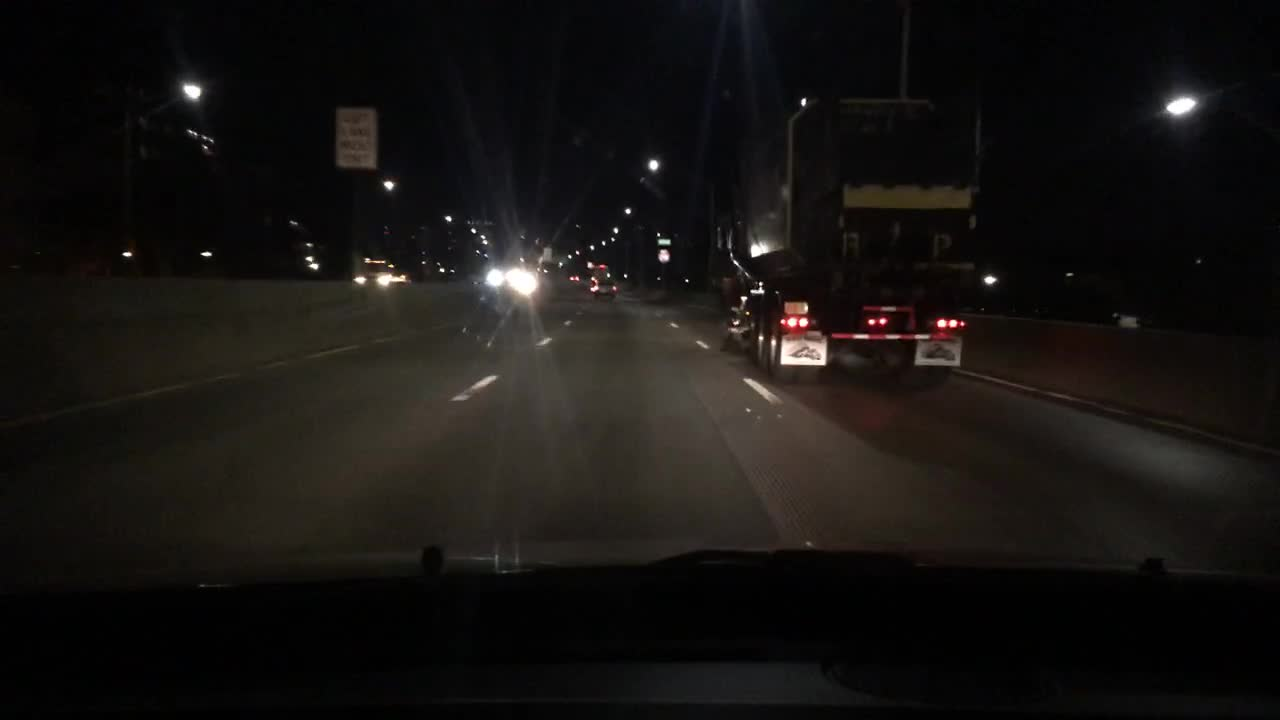car: (352, 255, 406, 283), (481, 265, 519, 287), (585, 273, 617, 299)
traffic sign: (334, 106, 374, 167), (656, 246, 668, 263), (656, 234, 671, 246)
truck: (714, 96, 984, 385)
